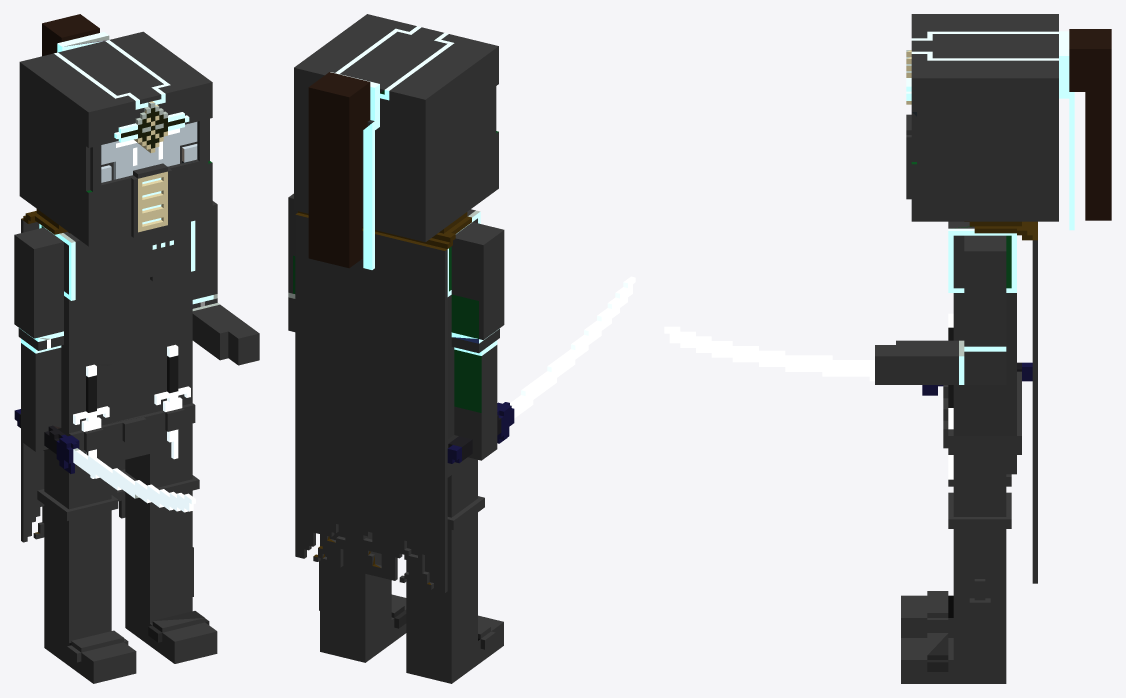
Rendered from ninja.glb.
3 renders of one model, left to right at view 1: azimuth 30°, elevation 25°; view 2: azimuth 150°, elevation 25°; view 3: azimuth 270°, elevation 25°, orthographic. The views are drawn at different scales.
Visible parts, largest first — view 1: ninja final.vox; view 2: ninja final.vox; view 3: ninja final.vox.
Boxes of the visible parts, x1=… form: ninja final.vox: x1=14, y1=14, x2=259, y2=683; ninja final.vox: x1=288, y1=14, x2=635, y2=683; ninja final.vox: x1=664, y1=14, x2=1111, y2=683.
Size of the model in its own units: 4.3 by 12.9 by 8.5.
8 materials, 1 textured.
